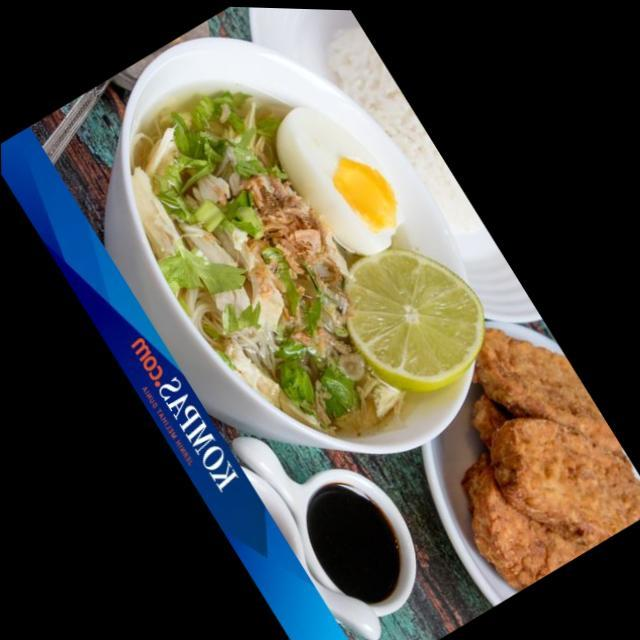Soto: (116, 73, 490, 442)
